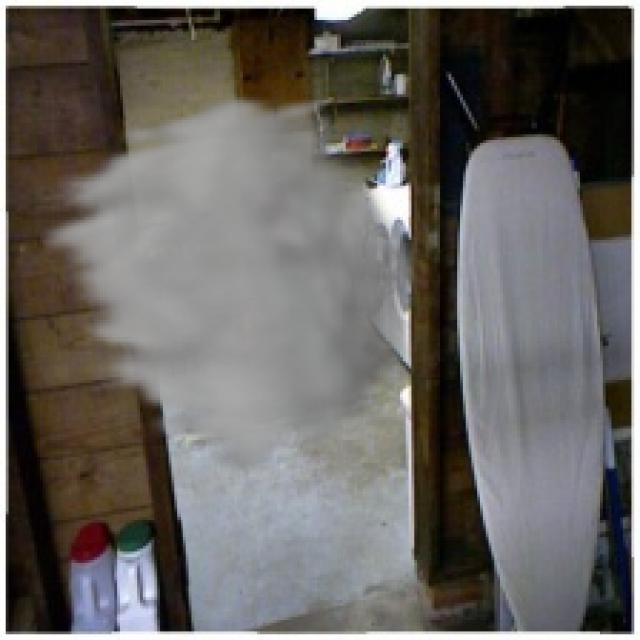Smoke: (26, 92, 426, 477)
